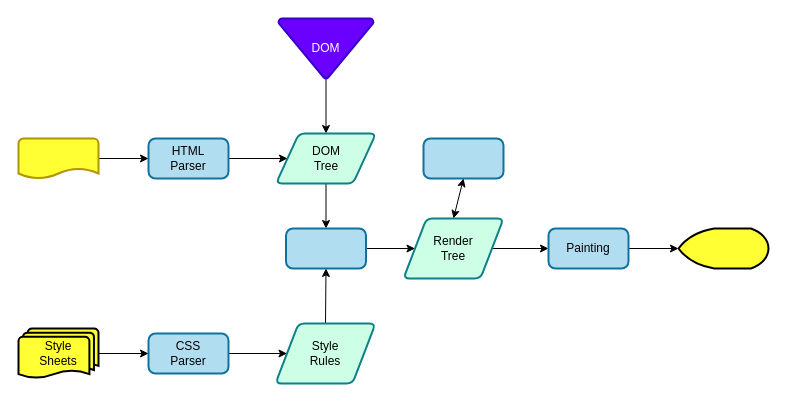
This 786x401 diagram has some shape labels left out. The shapes that lost their labels are listed below. From the top down, each one's box as (x1, y1, x2, y2) in pixels, then its label:
(17, 137, 99, 179): HTML
(422, 137, 504, 179): Layout
(284, 227, 366, 269): Attachment
(677, 227, 769, 269): display
